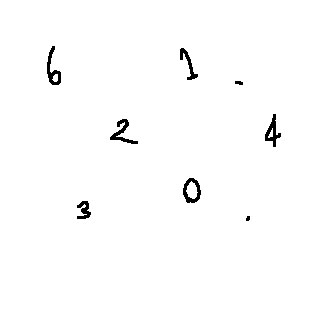.: (239, 210, 253, 227)
0: (177, 171, 207, 217)
1: (175, 40, 204, 88)
2: (106, 117, 150, 148)
3: (72, 191, 97, 232)
4: (256, 107, 285, 160)
6: (42, 43, 69, 92)
